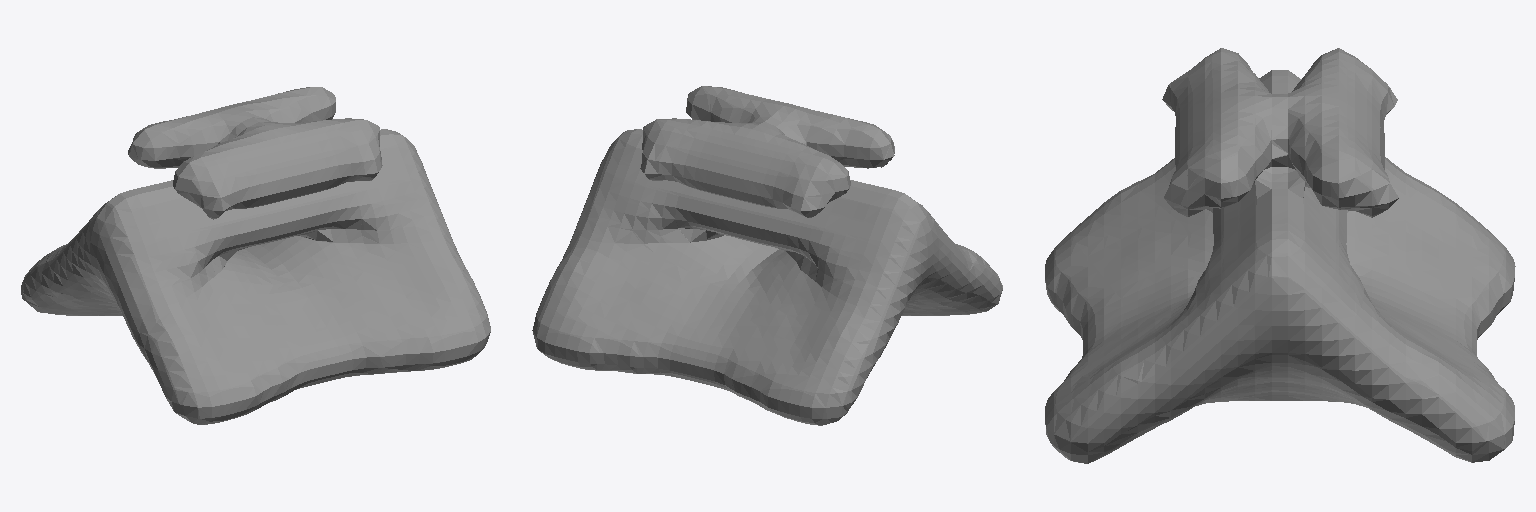
URDF robot description (cube.urdf):
<?xml version="0.0" ?> 
<robot name="cube.urdf"> 
<link name="legobrick"> 
<contact> 
<lateral_friction value="5.0"/> 
<rolling_friction value="0.0"/> 
<contact_cfm value="0.0"/> 
<contact_erp value="1.0"/> 
</contact> 
<inertial> 
<origin rpy="0 0 0" xyz="0.0 0.0 0.0"/> 
<mass value=".01"/> 
<inertia ixx="1" ixy="0" ixz="0" iyy="1" iyz="0" izz="1"/> 
</inertial> 
<visual> 
<origin rpy="1.570796 0 0" xyz="-0.026618743407849147 0.026650434523866347 -0.013351316508036306"/> 
<geometry> 
<mesh filename="S11_1.obj" scale="0.0005786774121776856 0.0005786774121776856 0.0005786774121776856"/> 
</geometry> 
<material name="yellow"> 
<color rgba="0.6 0.6 0.6 1"/> 
</material> 
</visual> 
<collision> 
<origin rpy="1.570796 0 0" xyz="-0.026618743407849147 0.026650434523866347 -0.013351316508036306"/> 
<geometry> 
<mesh filename="S11_1.obj" scale="0.0005786774121776856 0.0005786774121776856 0.0005786774121776856"/> 
</geometry> 
</collision> 
</link> 
</robot>

--- Facts derived from the render (not from the file) ---
The picture shows the robot from 3 angles, left to right: view 1: azimuth 30°, elevation 25°; view 2: azimuth 150°, elevation 25°; view 3: azimuth 270°, elevation 25°; orthographic projection.
Model cube.urdf with 1 links and 0 joints (none), rooted at legobrick, posed every joint at zero.
Visible links, largest first — view 1: legobrick; view 2: legobrick; view 3: legobrick.
Link boxes in pixels (bbox=[...]): legobrick: bbox=[21, 87, 490, 424]; legobrick: bbox=[532, 86, 1002, 425]; legobrick: bbox=[1045, 48, 1515, 463].
Size in the robot's own frame: 0.0579 by 0.056 by 0.0376 metres.
1 mesh visuals loaded from 1 distinct referenced files (1 OBJ).
